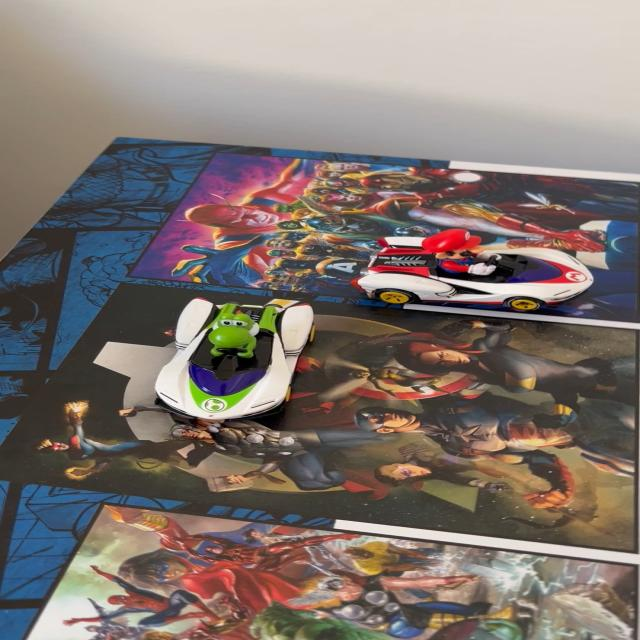mario: (350, 230, 608, 316)
yoshi: (143, 289, 324, 430)
